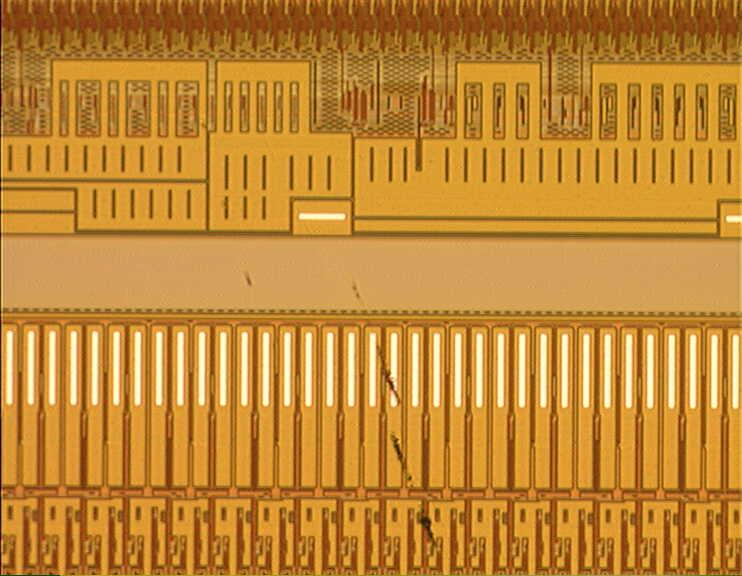SCRATCH: (230, 256, 448, 567)
